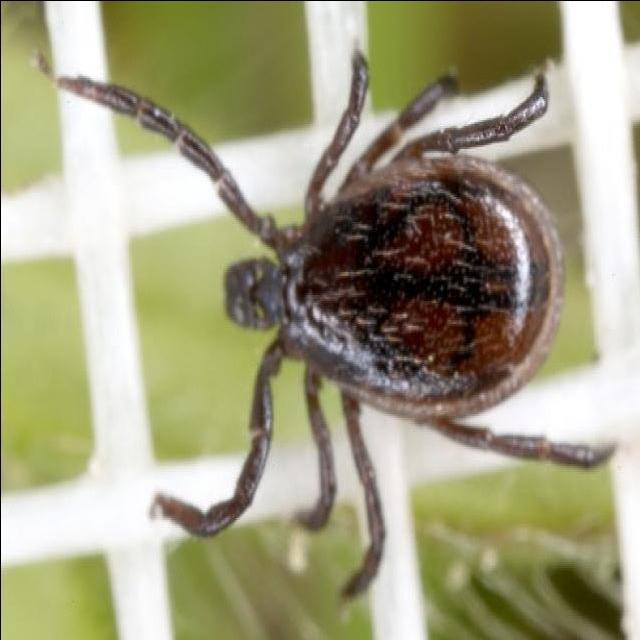Ixodes Ricinus-M: (54, 52, 610, 602)
